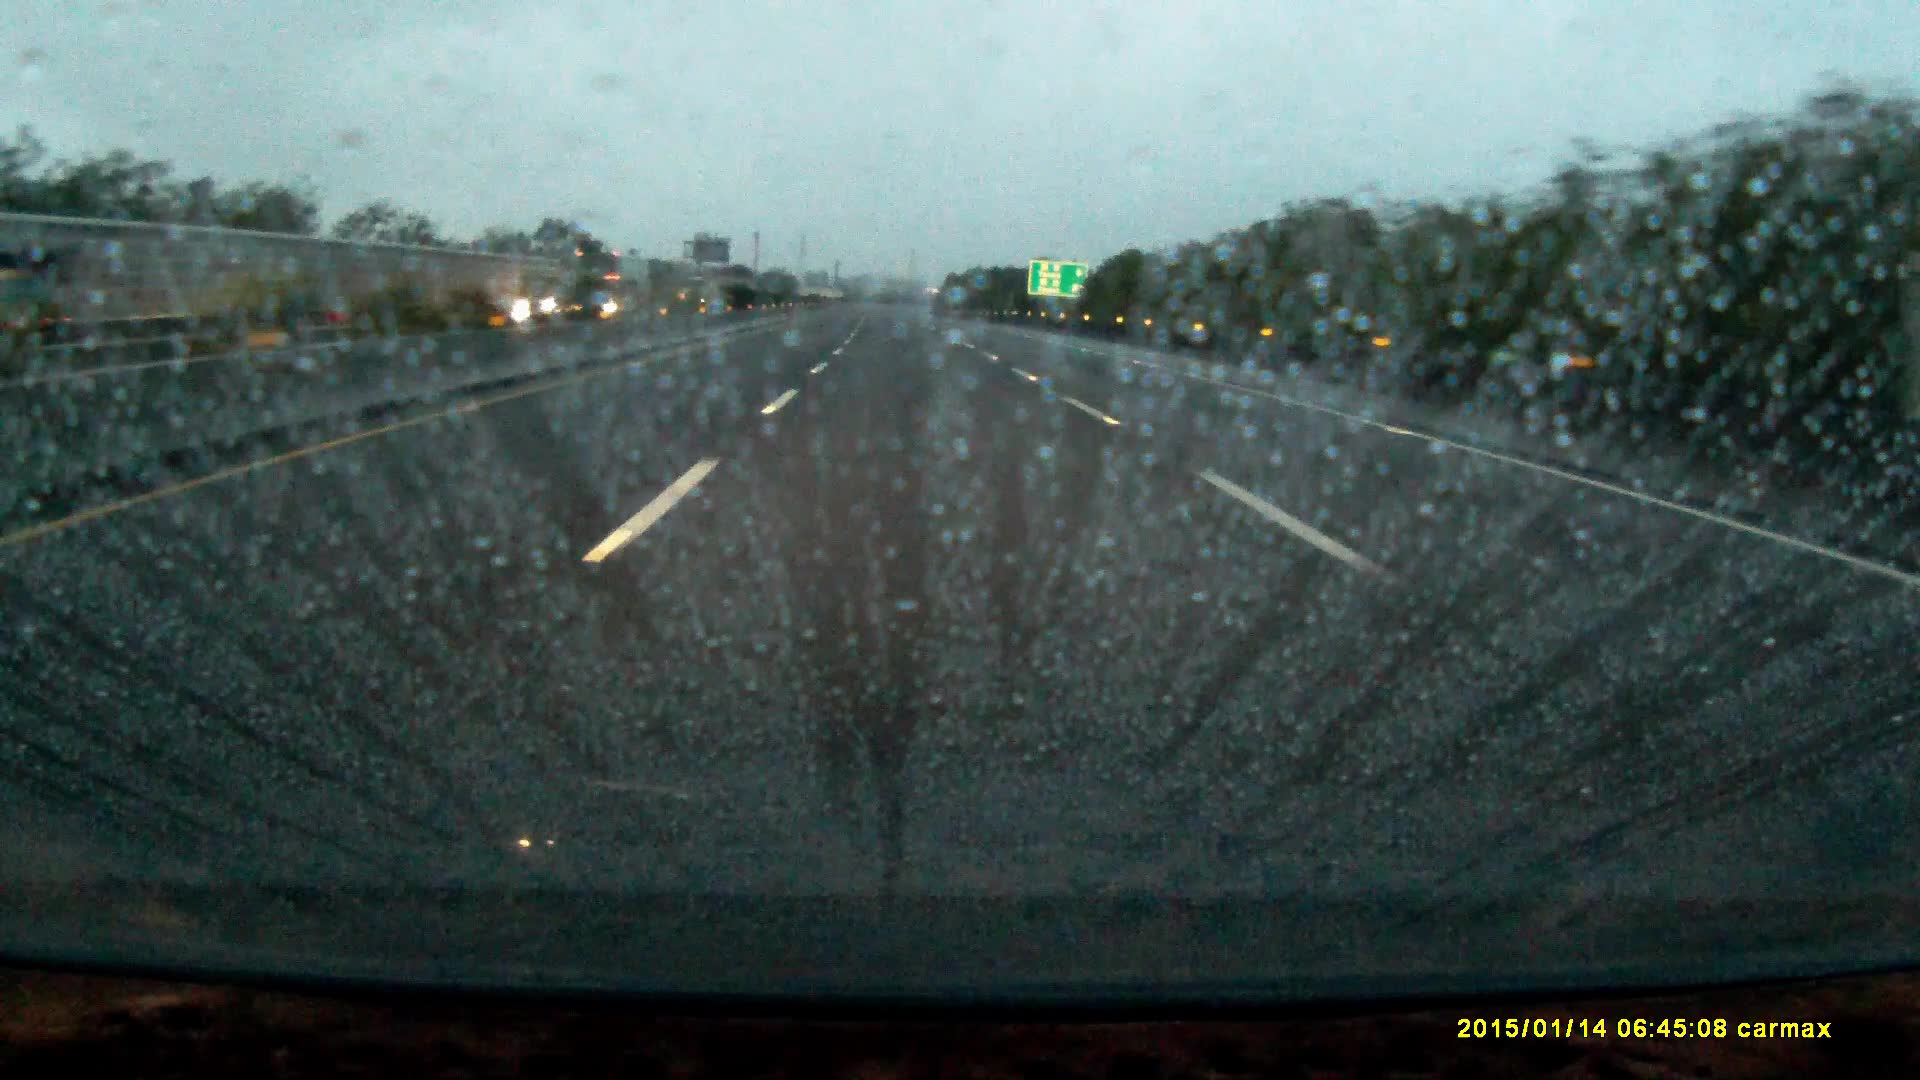vehicle: (576, 253, 655, 316), (513, 284, 576, 322)
